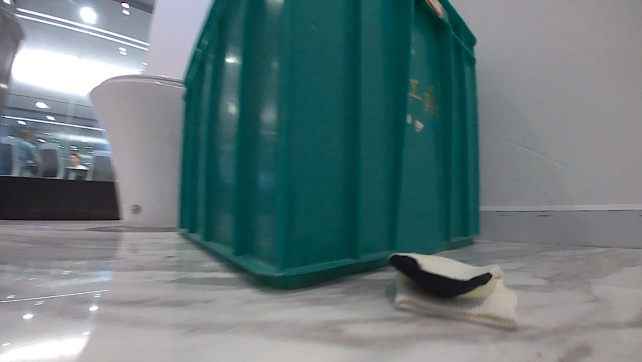socks: (385, 246, 521, 334)
toilet: (85, 70, 195, 234)
